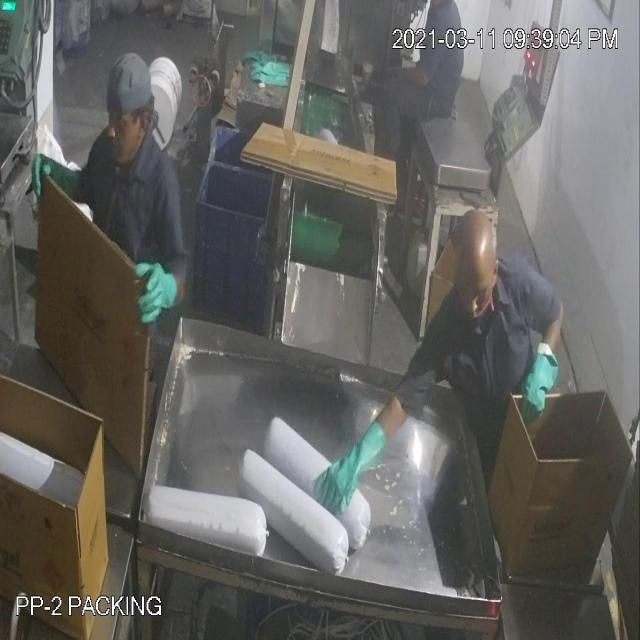Gloves: (48, 108, 540, 460)
